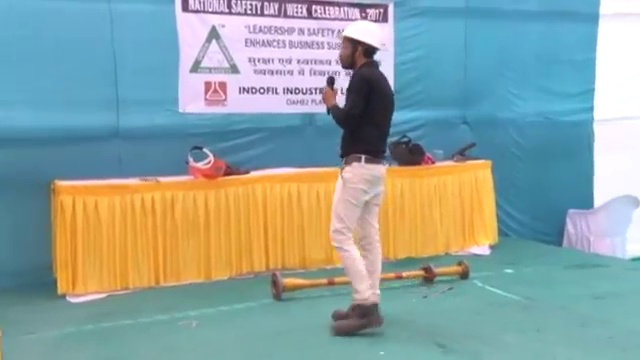helmet: (340, 19, 384, 53)
helmet_on: (340, 18, 386, 70)
person: (323, 15, 391, 332)
